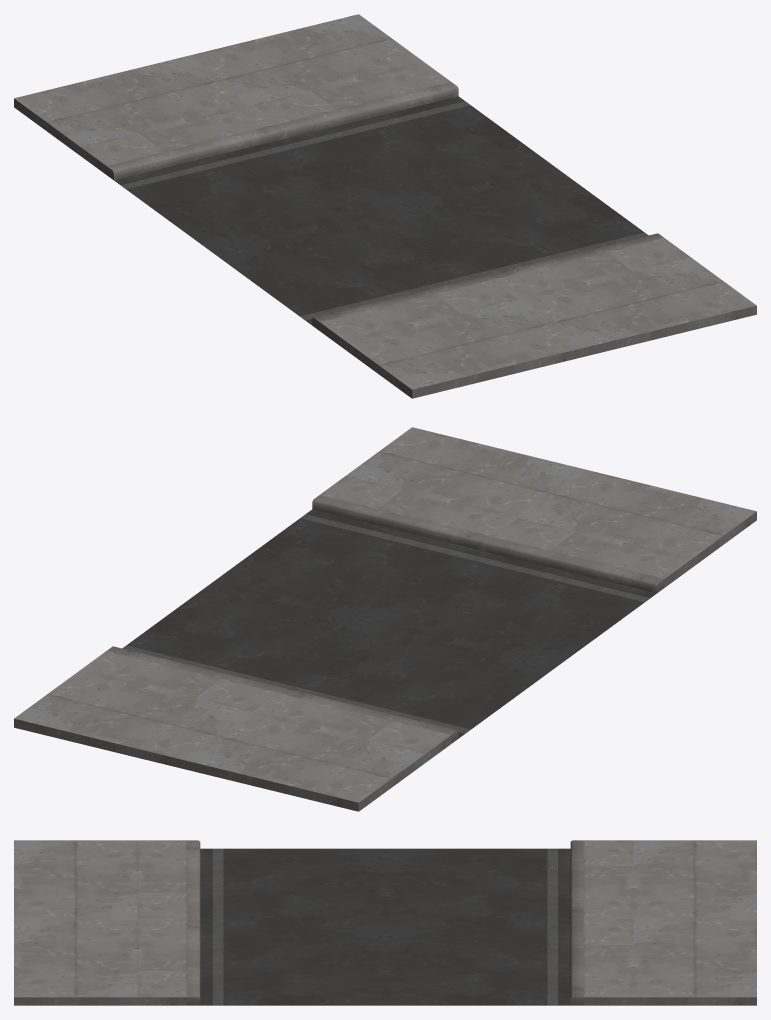
File: S_Street2Lane.gltf
3 renders of one model, top to bottom at view 1: azimuth 30°, elevation 25°; view 2: azimuth 150°, elevation 25°; view 3: azimuth 270°, elevation 25°, orthographic. The views are drawn at different scales.
Parts seen in each view (by area): view 1: Plane_048-col; view 2: Plane_048-col; view 3: Plane_048-col.
Boxes of the visible parts, left/top/right/bottom form: Plane_048-col: left=14, top=14, right=756, bottom=398; Plane_048-col: left=14, top=427, right=756, bottom=811; Plane_048-col: left=14, top=840, right=756, bottom=1005.
Bounding box in the file's own units: 6 × 0.15 × 12.
3 materials, 3 textured.
